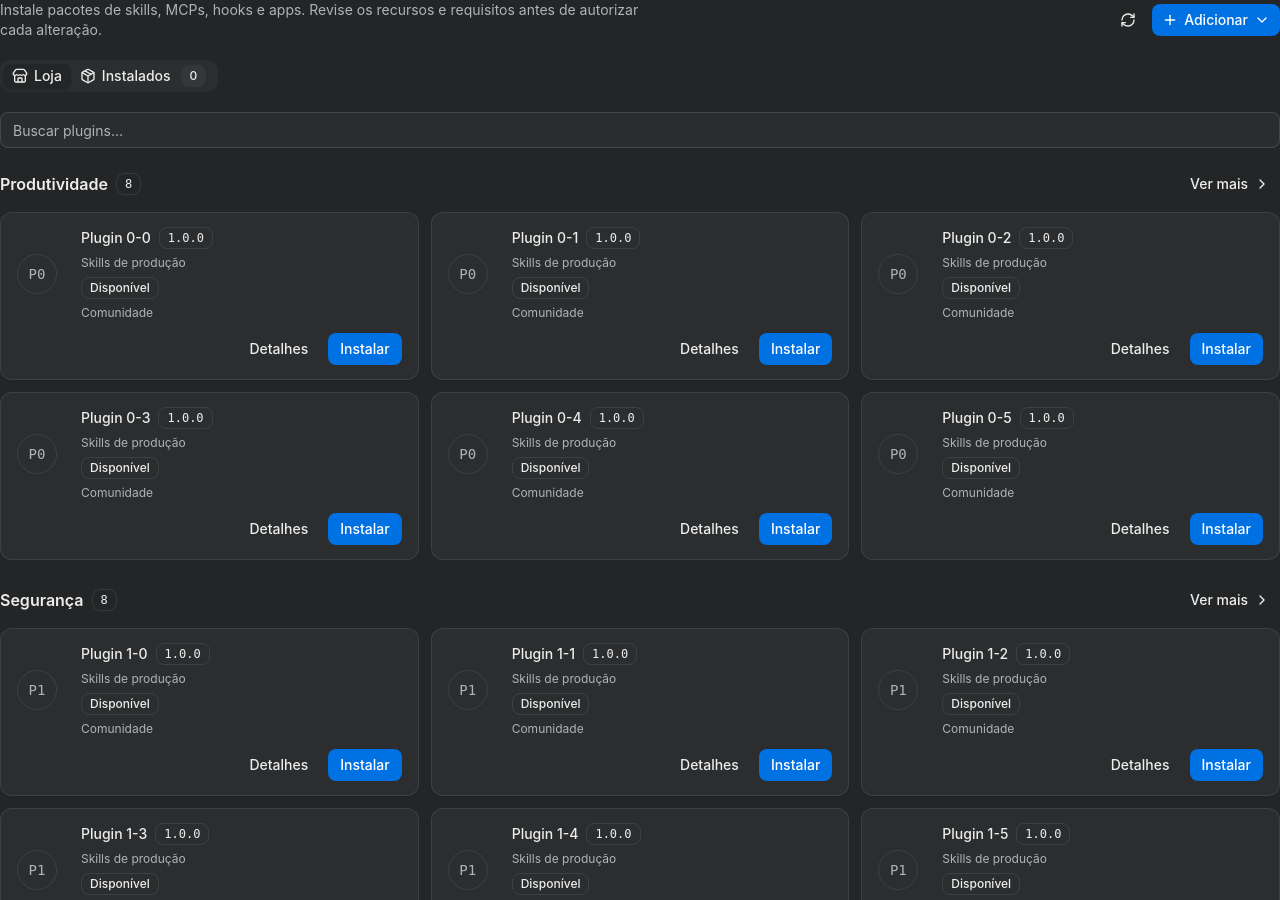
PluginsSettings › searches all categories without the preview limit, then restores the store when cleared
Step 1. Click the button with aria-label "Ver mais em Produtividade" → point(1230, 184), box x1=1180 y1=168 x2=1279 y2=200
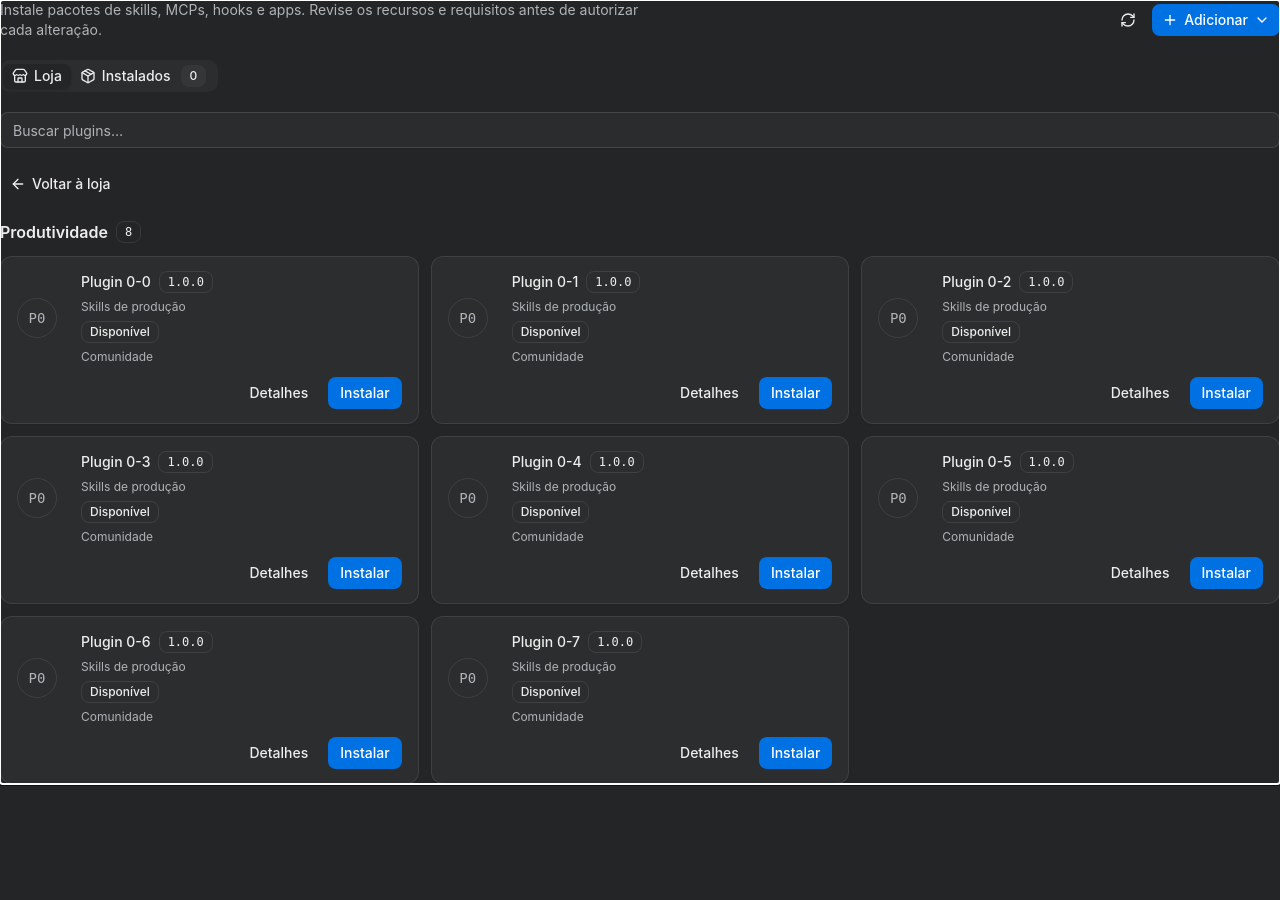
Step 2. Type "Plugin" into the field labelled "Buscar plugins" → point(640, 130), box x1=0 y1=112 x2=1279 y2=148
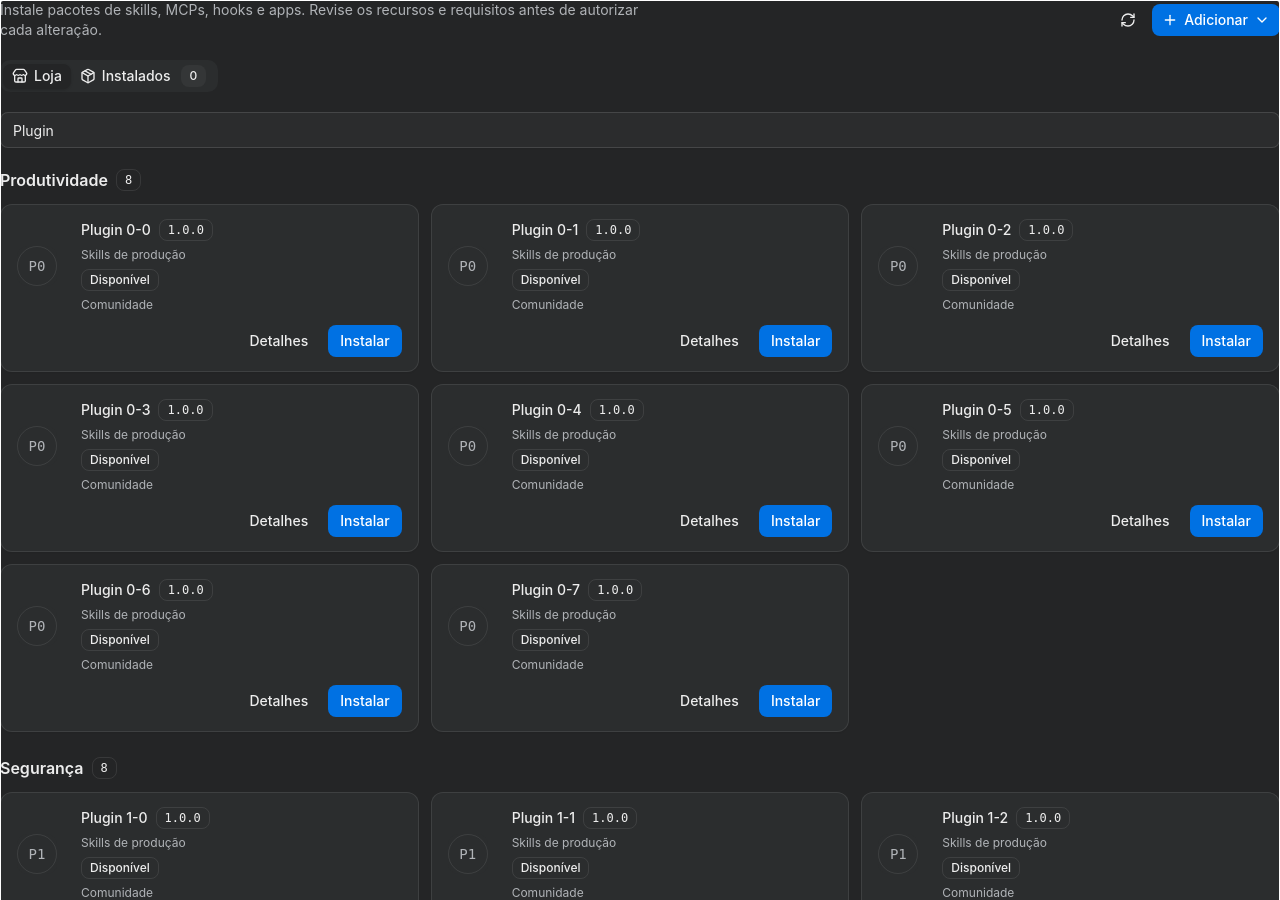
Expected: the number of buttons "Instalar " is 16
Expected: the button "Voltar à loja" is gone
Step 3. Replace the text in the field named "Buscar plugins" with "inexistente" → point(640, 130), box x1=0 y1=112 x2=1279 y2=148
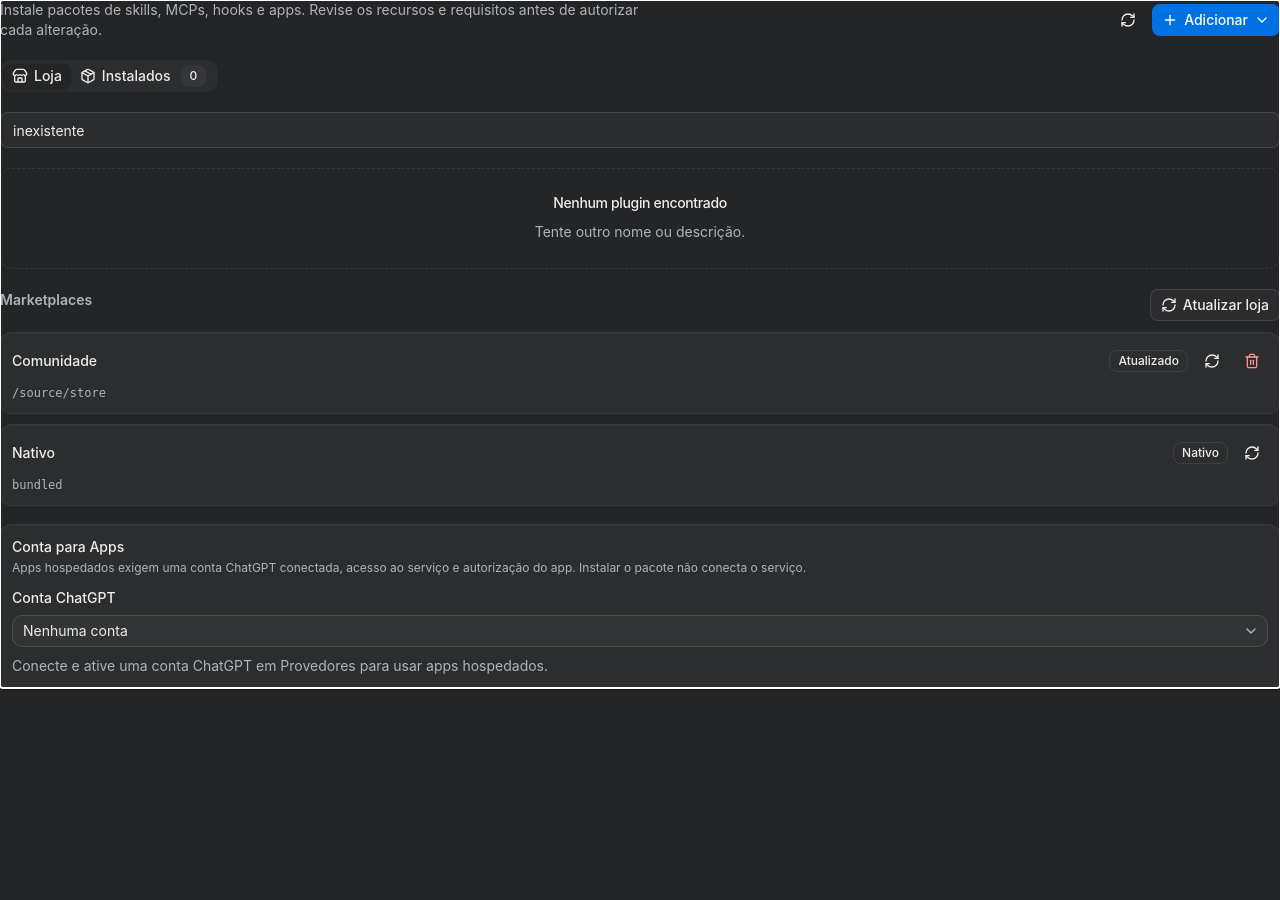
Expected: the text "Nenhum plugin encontrado" is shown, x1=553 y1=193 x2=727 y2=213
Step 4. Clear the field named "Buscar plugins" → point(640, 130), box x1=0 y1=112 x2=1279 y2=148
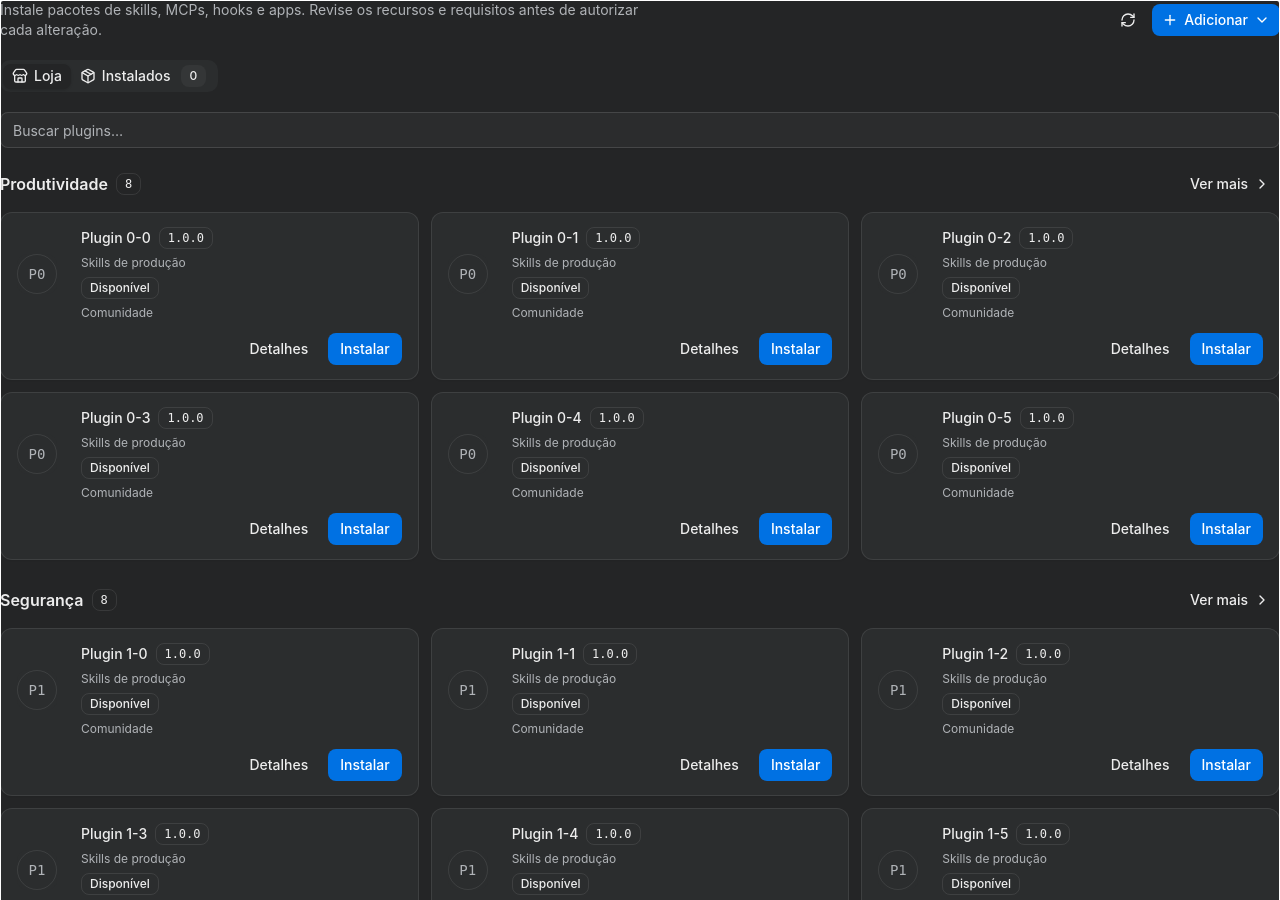
Expected: the number of buttons "Instalar " is 12
Expected: the button with aria-label "Ver mais em Segurança" is shown, x1=1180 y1=584 x2=1279 y2=616
